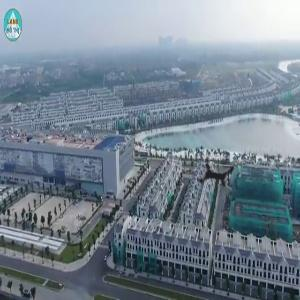drone: (178, 134, 259, 215)
